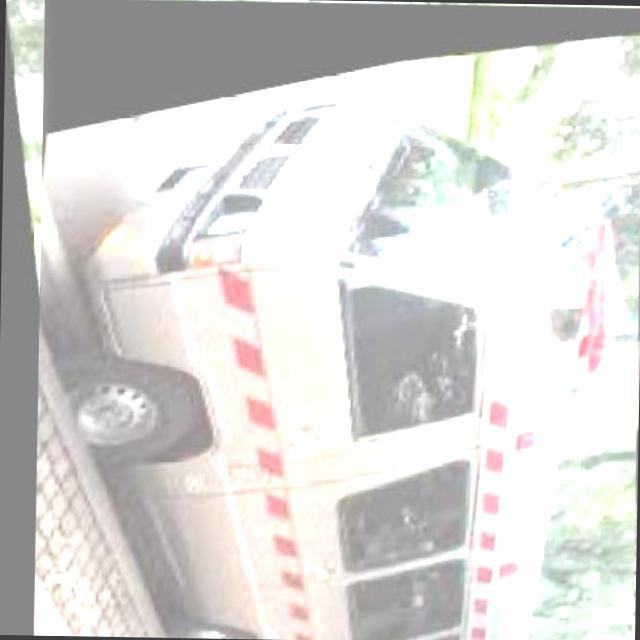emergency-vehicle: (3, 23, 640, 640)
